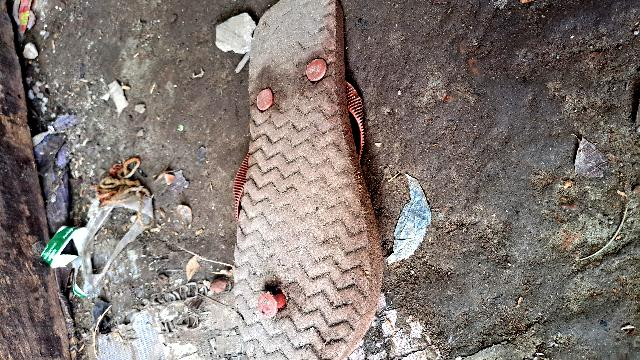sandal: (224, 2, 390, 356)
